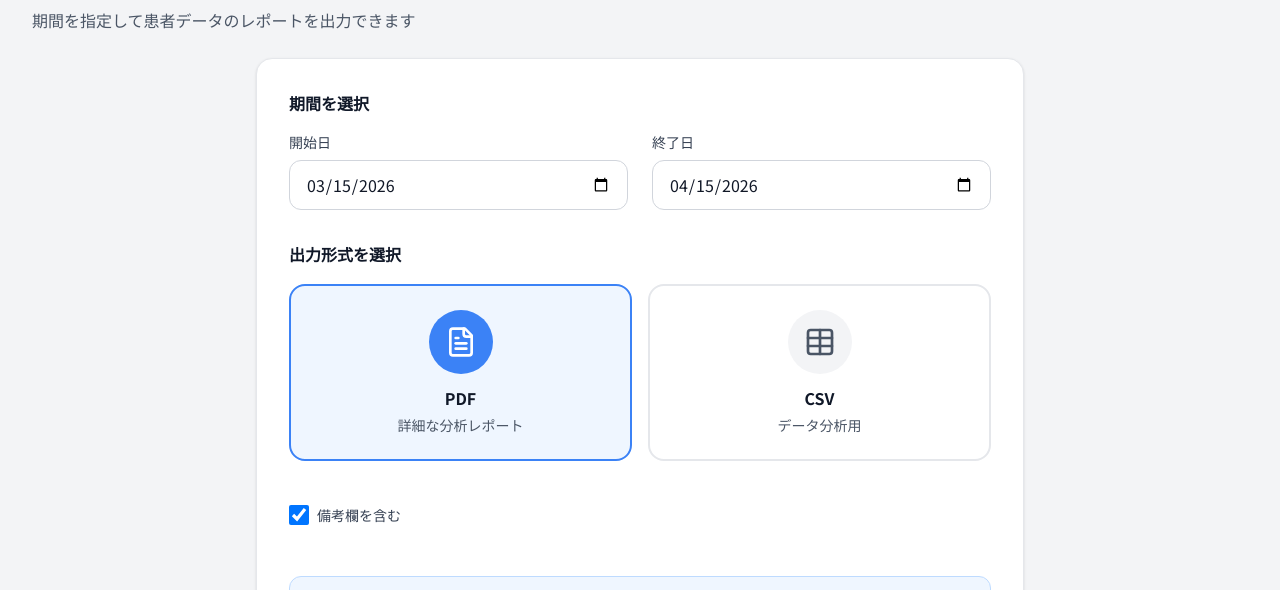
it: S-07 ReportGeneration › report generation › should show error message on download failure
The image size is (1280, 590).
Type "2026-01-01" into the date field labelled "開始日". click: (458, 185)
box: top-left (289, 160), bottom-right (628, 210)
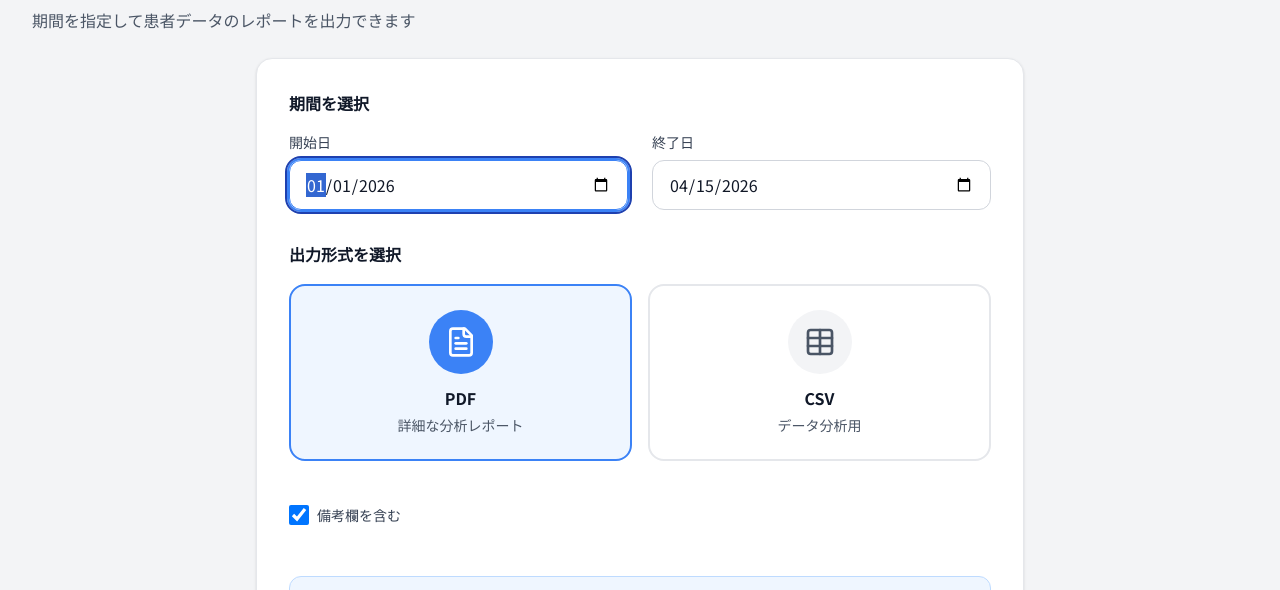
Type "2026-01-20" into the date field labelled "終了日". click: (822, 185)
box: top-left (652, 160), bottom-right (991, 210)
(page scrolled)
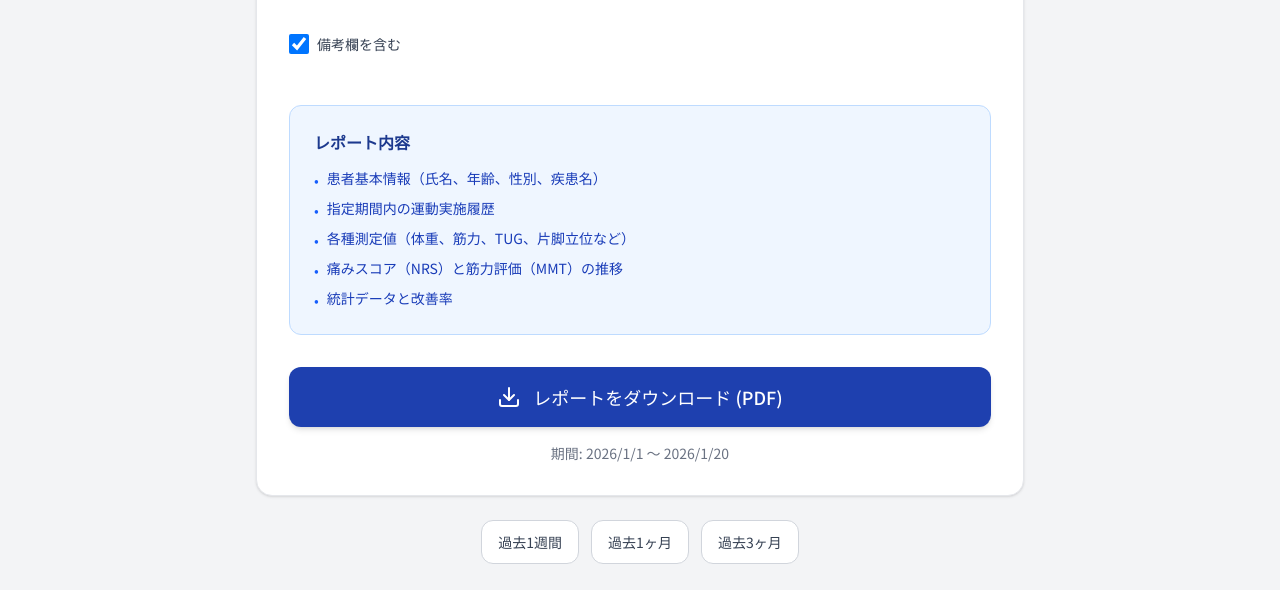
Click the button "レポートをダウンロード (PDF)". click: (640, 397)
box: top-left (289, 367), bottom-right (991, 427)
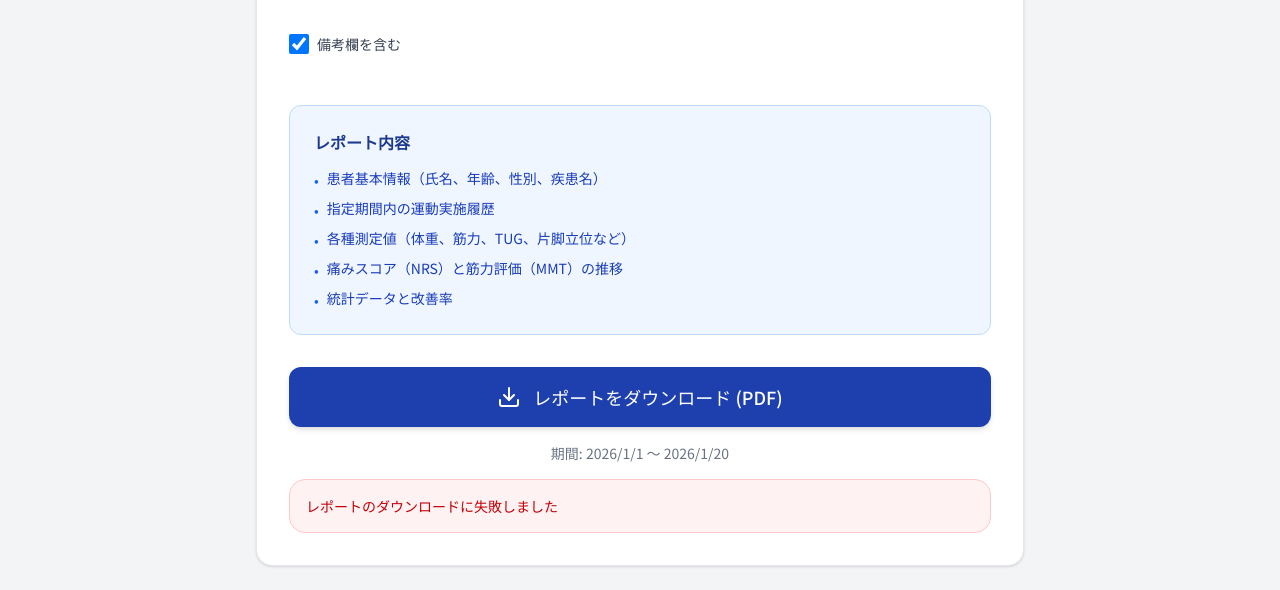
Expected: the text "レポートのダウンロードに失敗しました" is shown, top-left (306, 496), bottom-right (558, 516)
